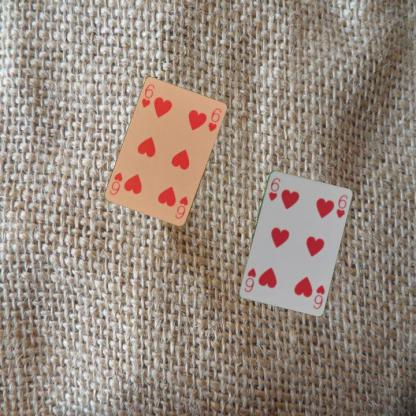6h: (172, 194, 190, 220), (139, 82, 156, 109), (310, 282, 326, 310), (266, 175, 281, 202)
